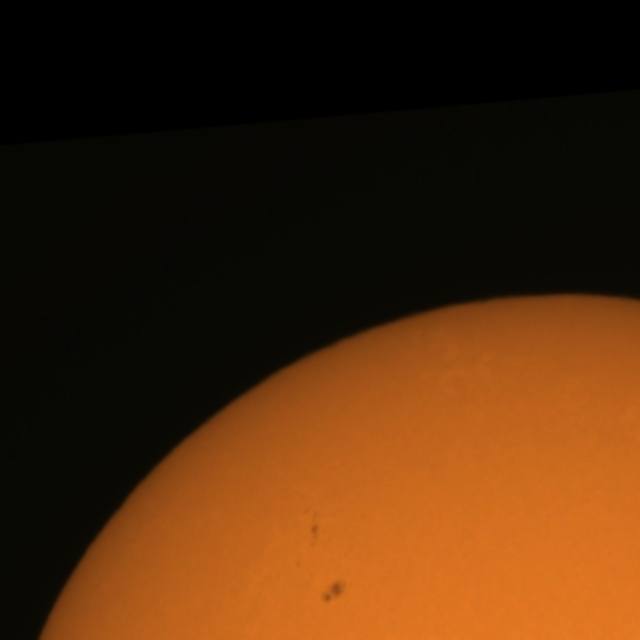sunspot: (318, 578, 348, 606), (308, 522, 322, 545)
